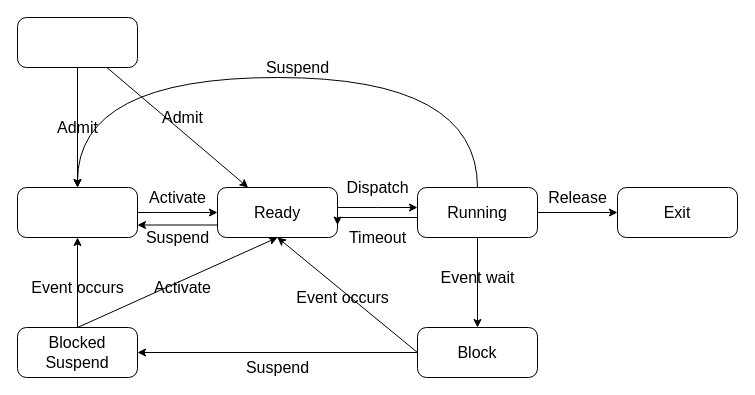
Image size: 755x395. Some labels were removed from this diagram. The shapes that lost their labels are listed below. From the top down, each one's centre as x and y in pixels, then its label:
the point at 77,42: New
the point at 77,212: Ready Suspend
